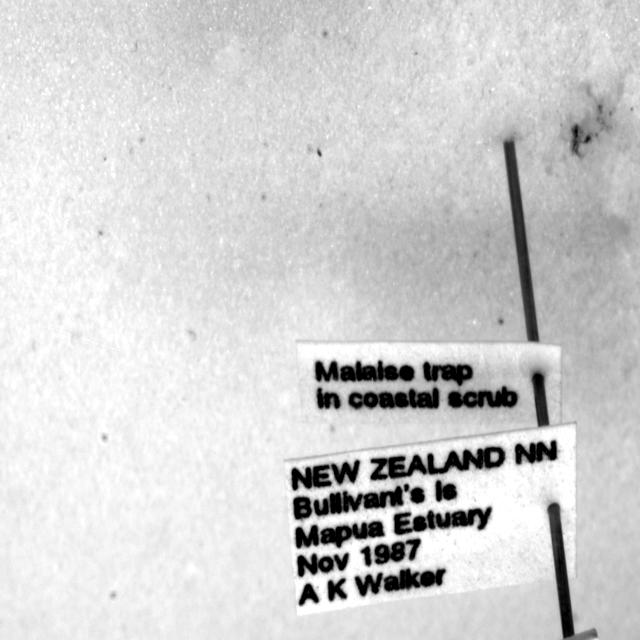typed_label: (285, 424, 576, 613), (296, 341, 561, 424)
